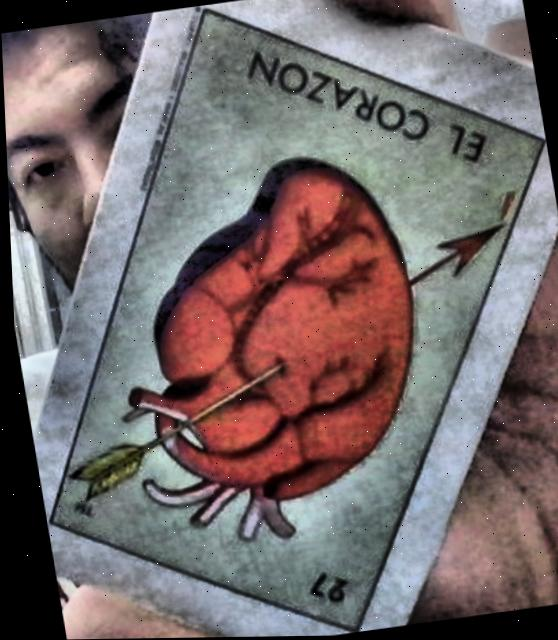El Corazon: (48, 11, 543, 625)
